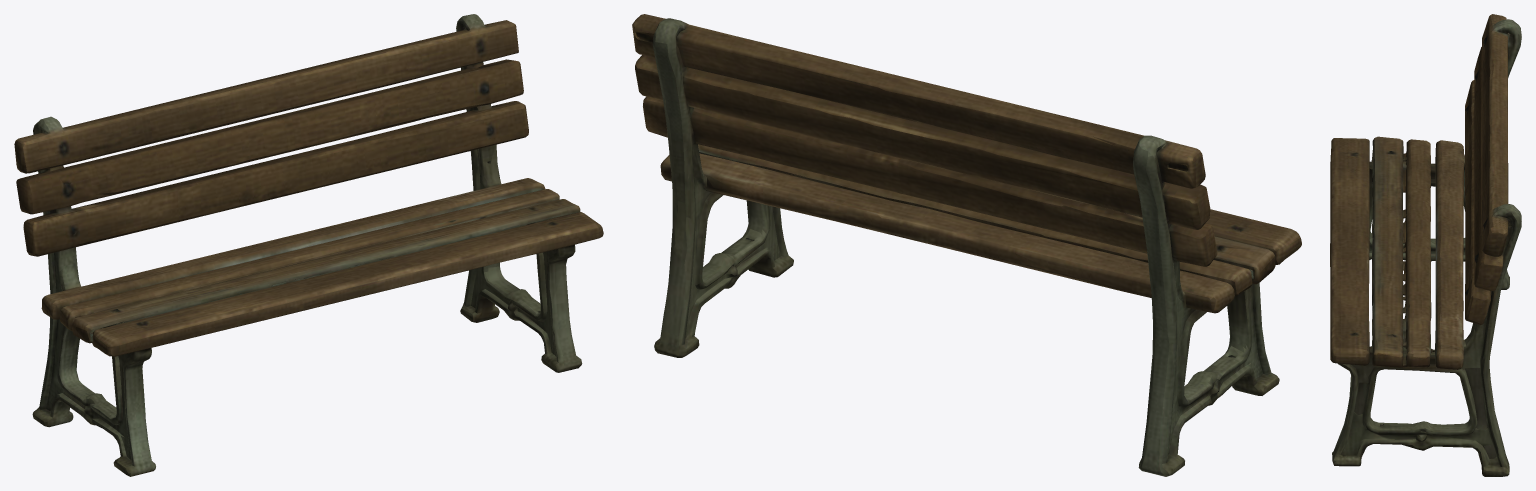
File: bench_base.glb
3 views of the same model, side by side, from view 1: azimuth 30°, elevation 25°; view 2: azimuth 150°, elevation 25°; view 3: azimuth 270°, elevation 25° (orthographic). The views are drawn at different scales.
Parts seen in each view (by area): view 1: world; view 2: world; view 3: world.
Part boxes in pixels (bbox=[...]): world: bbox=[14, 14, 603, 476]; world: bbox=[632, 14, 1301, 476]; world: bbox=[1330, 14, 1521, 476].
Bounding box in the file's own units: 2.35 × 1.34 × 0.8767.
Materials: 1 (1 with a texture image).
